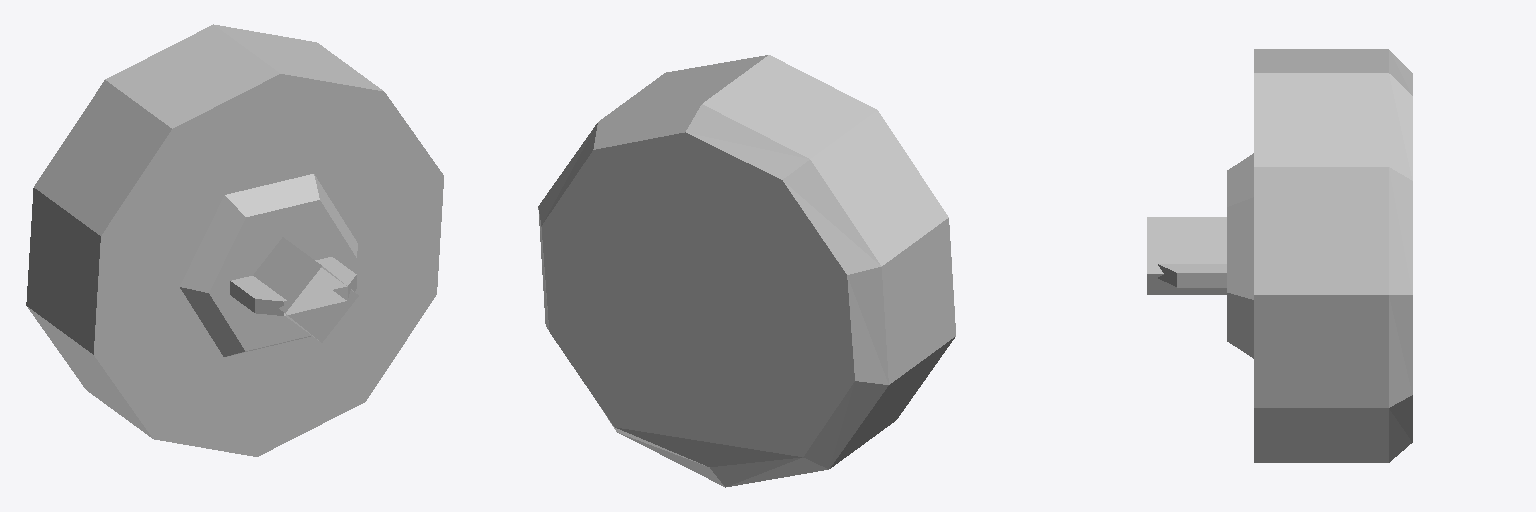
The model's file is wheel211.obj.
The picture shows the model from 3 angles: view 1: azimuth 30°, elevation 25°; view 2: azimuth 150°, elevation 25°; view 3: azimuth 270°, elevation 25°; orthographic projection.
Parts seen in each view (by area): view 1: wheel_low_textures; view 2: wheel_low_textures; view 3: wheel_low_textures.
Boxes of the visible parts, x1,y1,x2,y2 form: wheel_low_textures: [26, 24, 443, 456]; wheel_low_textures: [538, 55, 955, 487]; wheel_low_textures: [1147, 49, 1412, 462].
Size of the model in its own units: 1.51 by 1.56 by 0.9907.